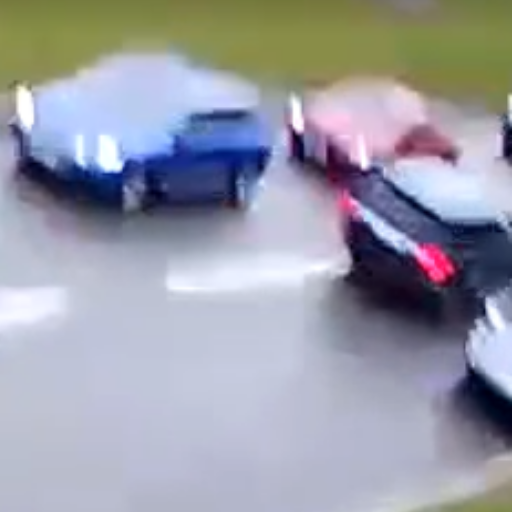Car: (11, 49, 264, 207), (348, 159, 509, 312), (286, 68, 461, 171)
